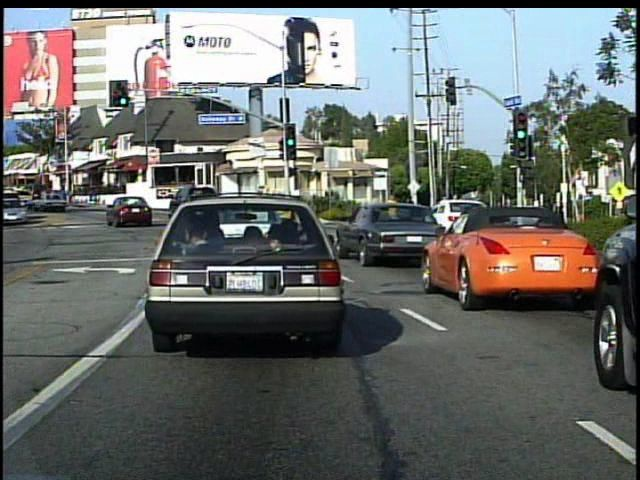person: (381, 191, 402, 230), (403, 192, 422, 233)
